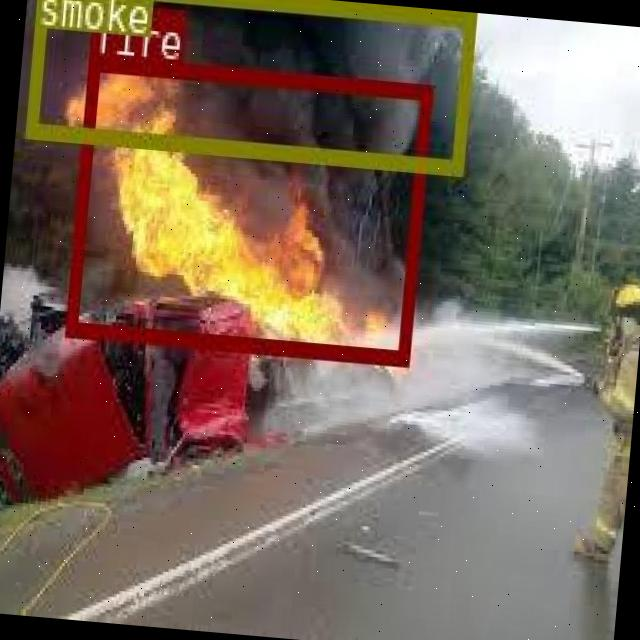fire: (63, 54, 430, 364)
smoke: (25, 0, 472, 173)
